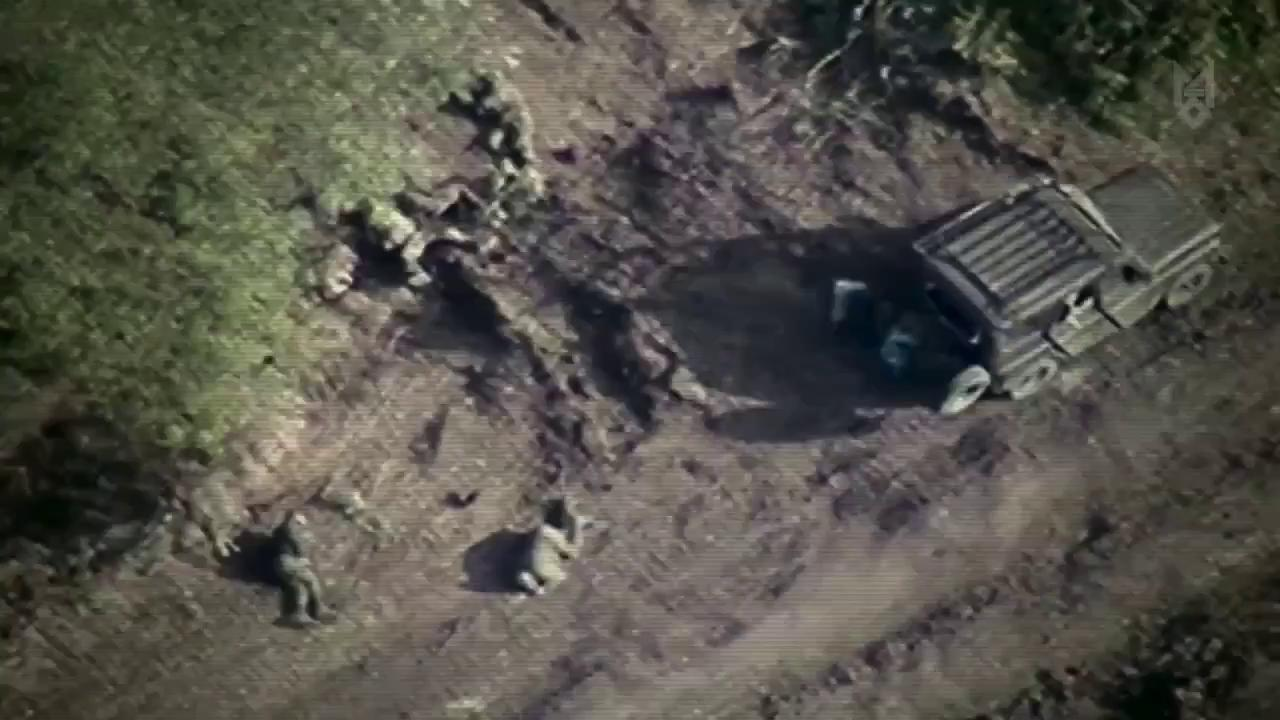tank: (899, 152, 1226, 408)
